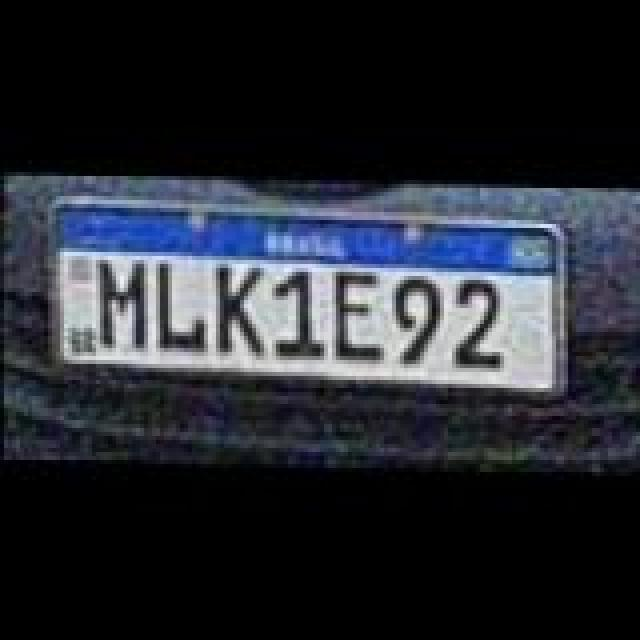1: (272, 266, 324, 354)
2: (454, 274, 502, 366)
9: (394, 270, 442, 362)
E: (338, 264, 386, 356)
K: (218, 262, 266, 354)
L: (152, 262, 204, 354)
M: (102, 254, 150, 346)
